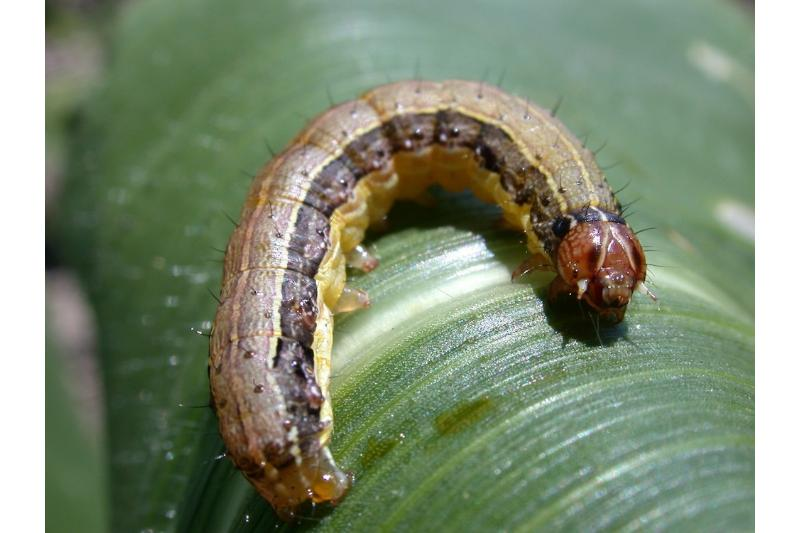fall-armyworm: (209, 81, 648, 525)
